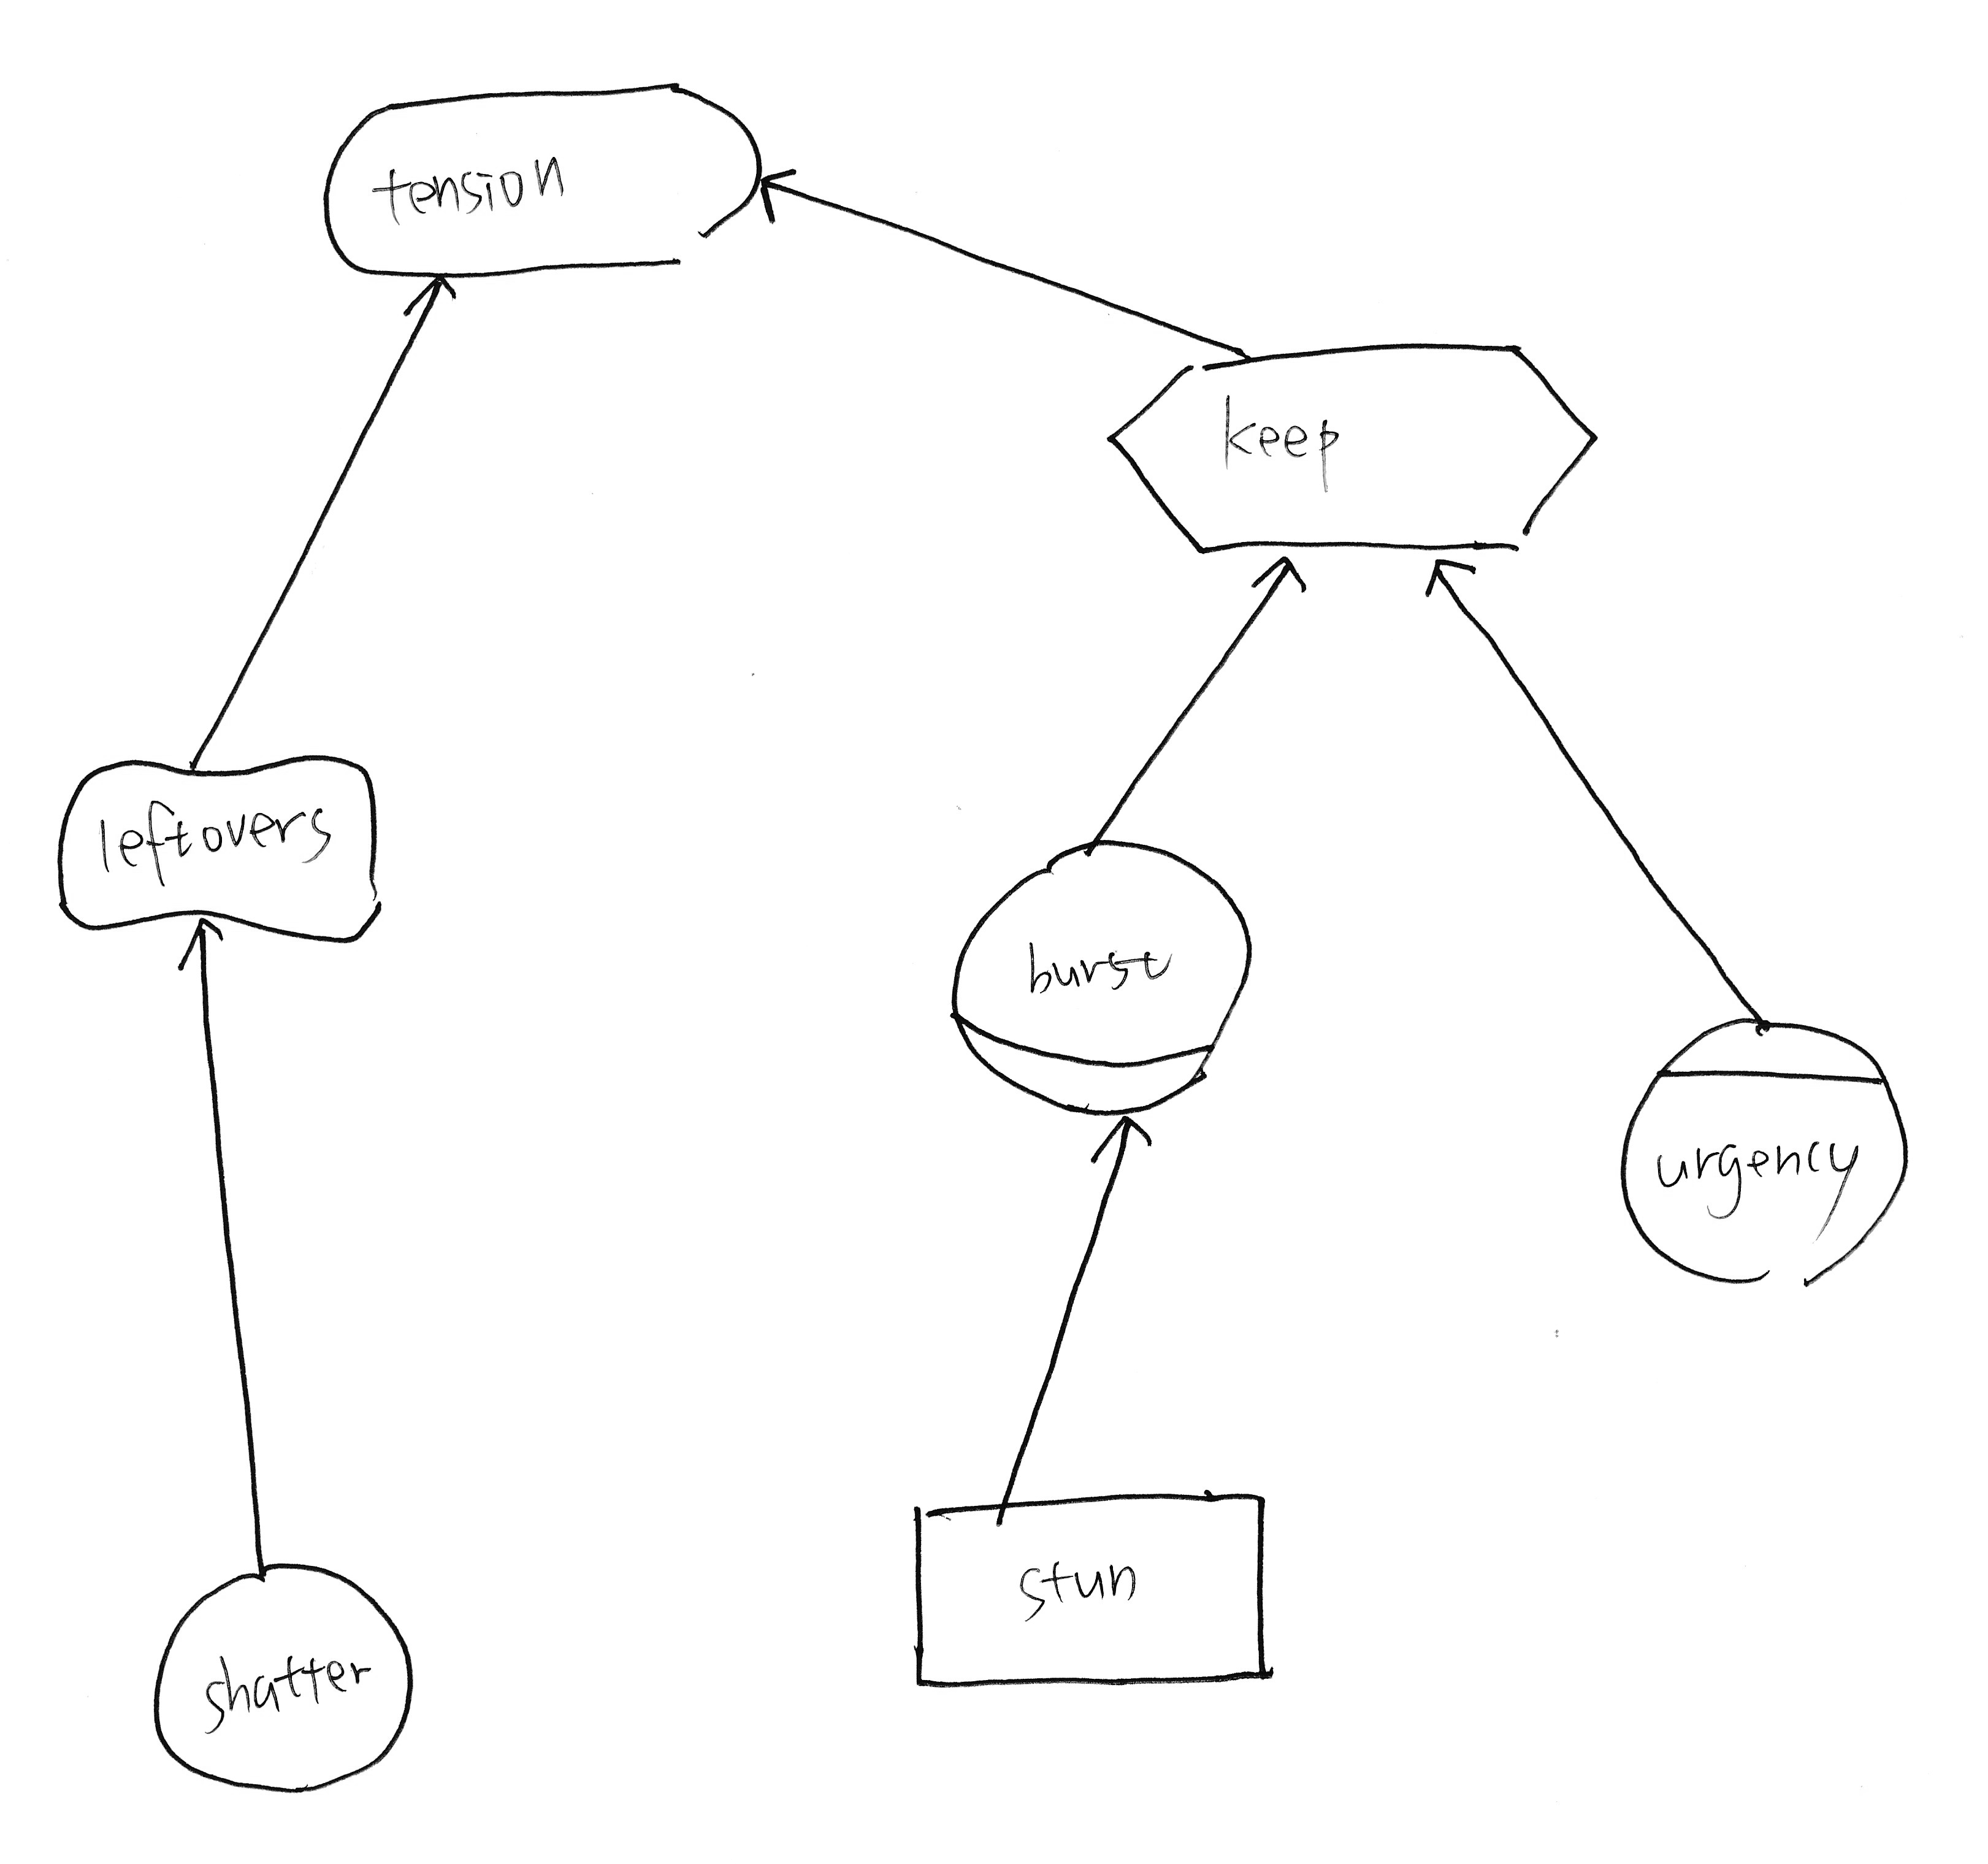actor: (137, 1545, 431, 1811)
agent: (1603, 1000, 1927, 1307)
arrow: (1074, 1091, 1168, 1177), (736, 154, 823, 244), (159, 904, 249, 986), (1231, 541, 1322, 613), (1403, 541, 1496, 611), (389, 265, 462, 340)
goal: (307, 63, 783, 301)
quality: (33, 736, 406, 958)
resource: (888, 1470, 1293, 1720)
role: (928, 816, 1265, 1135)
task: (1095, 322, 1615, 580)
